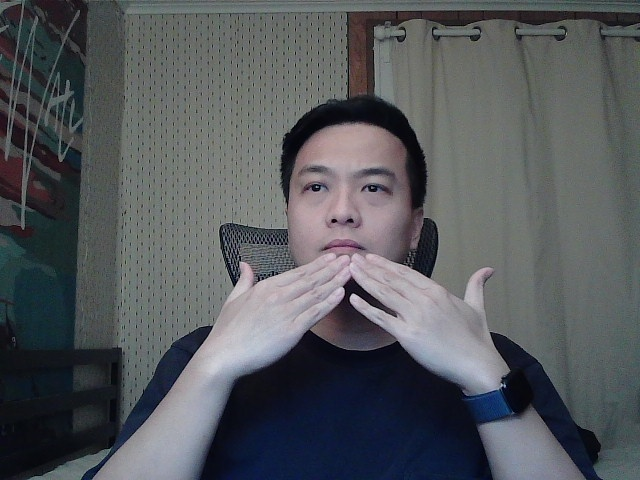Thank You: (183, 239, 531, 387)
